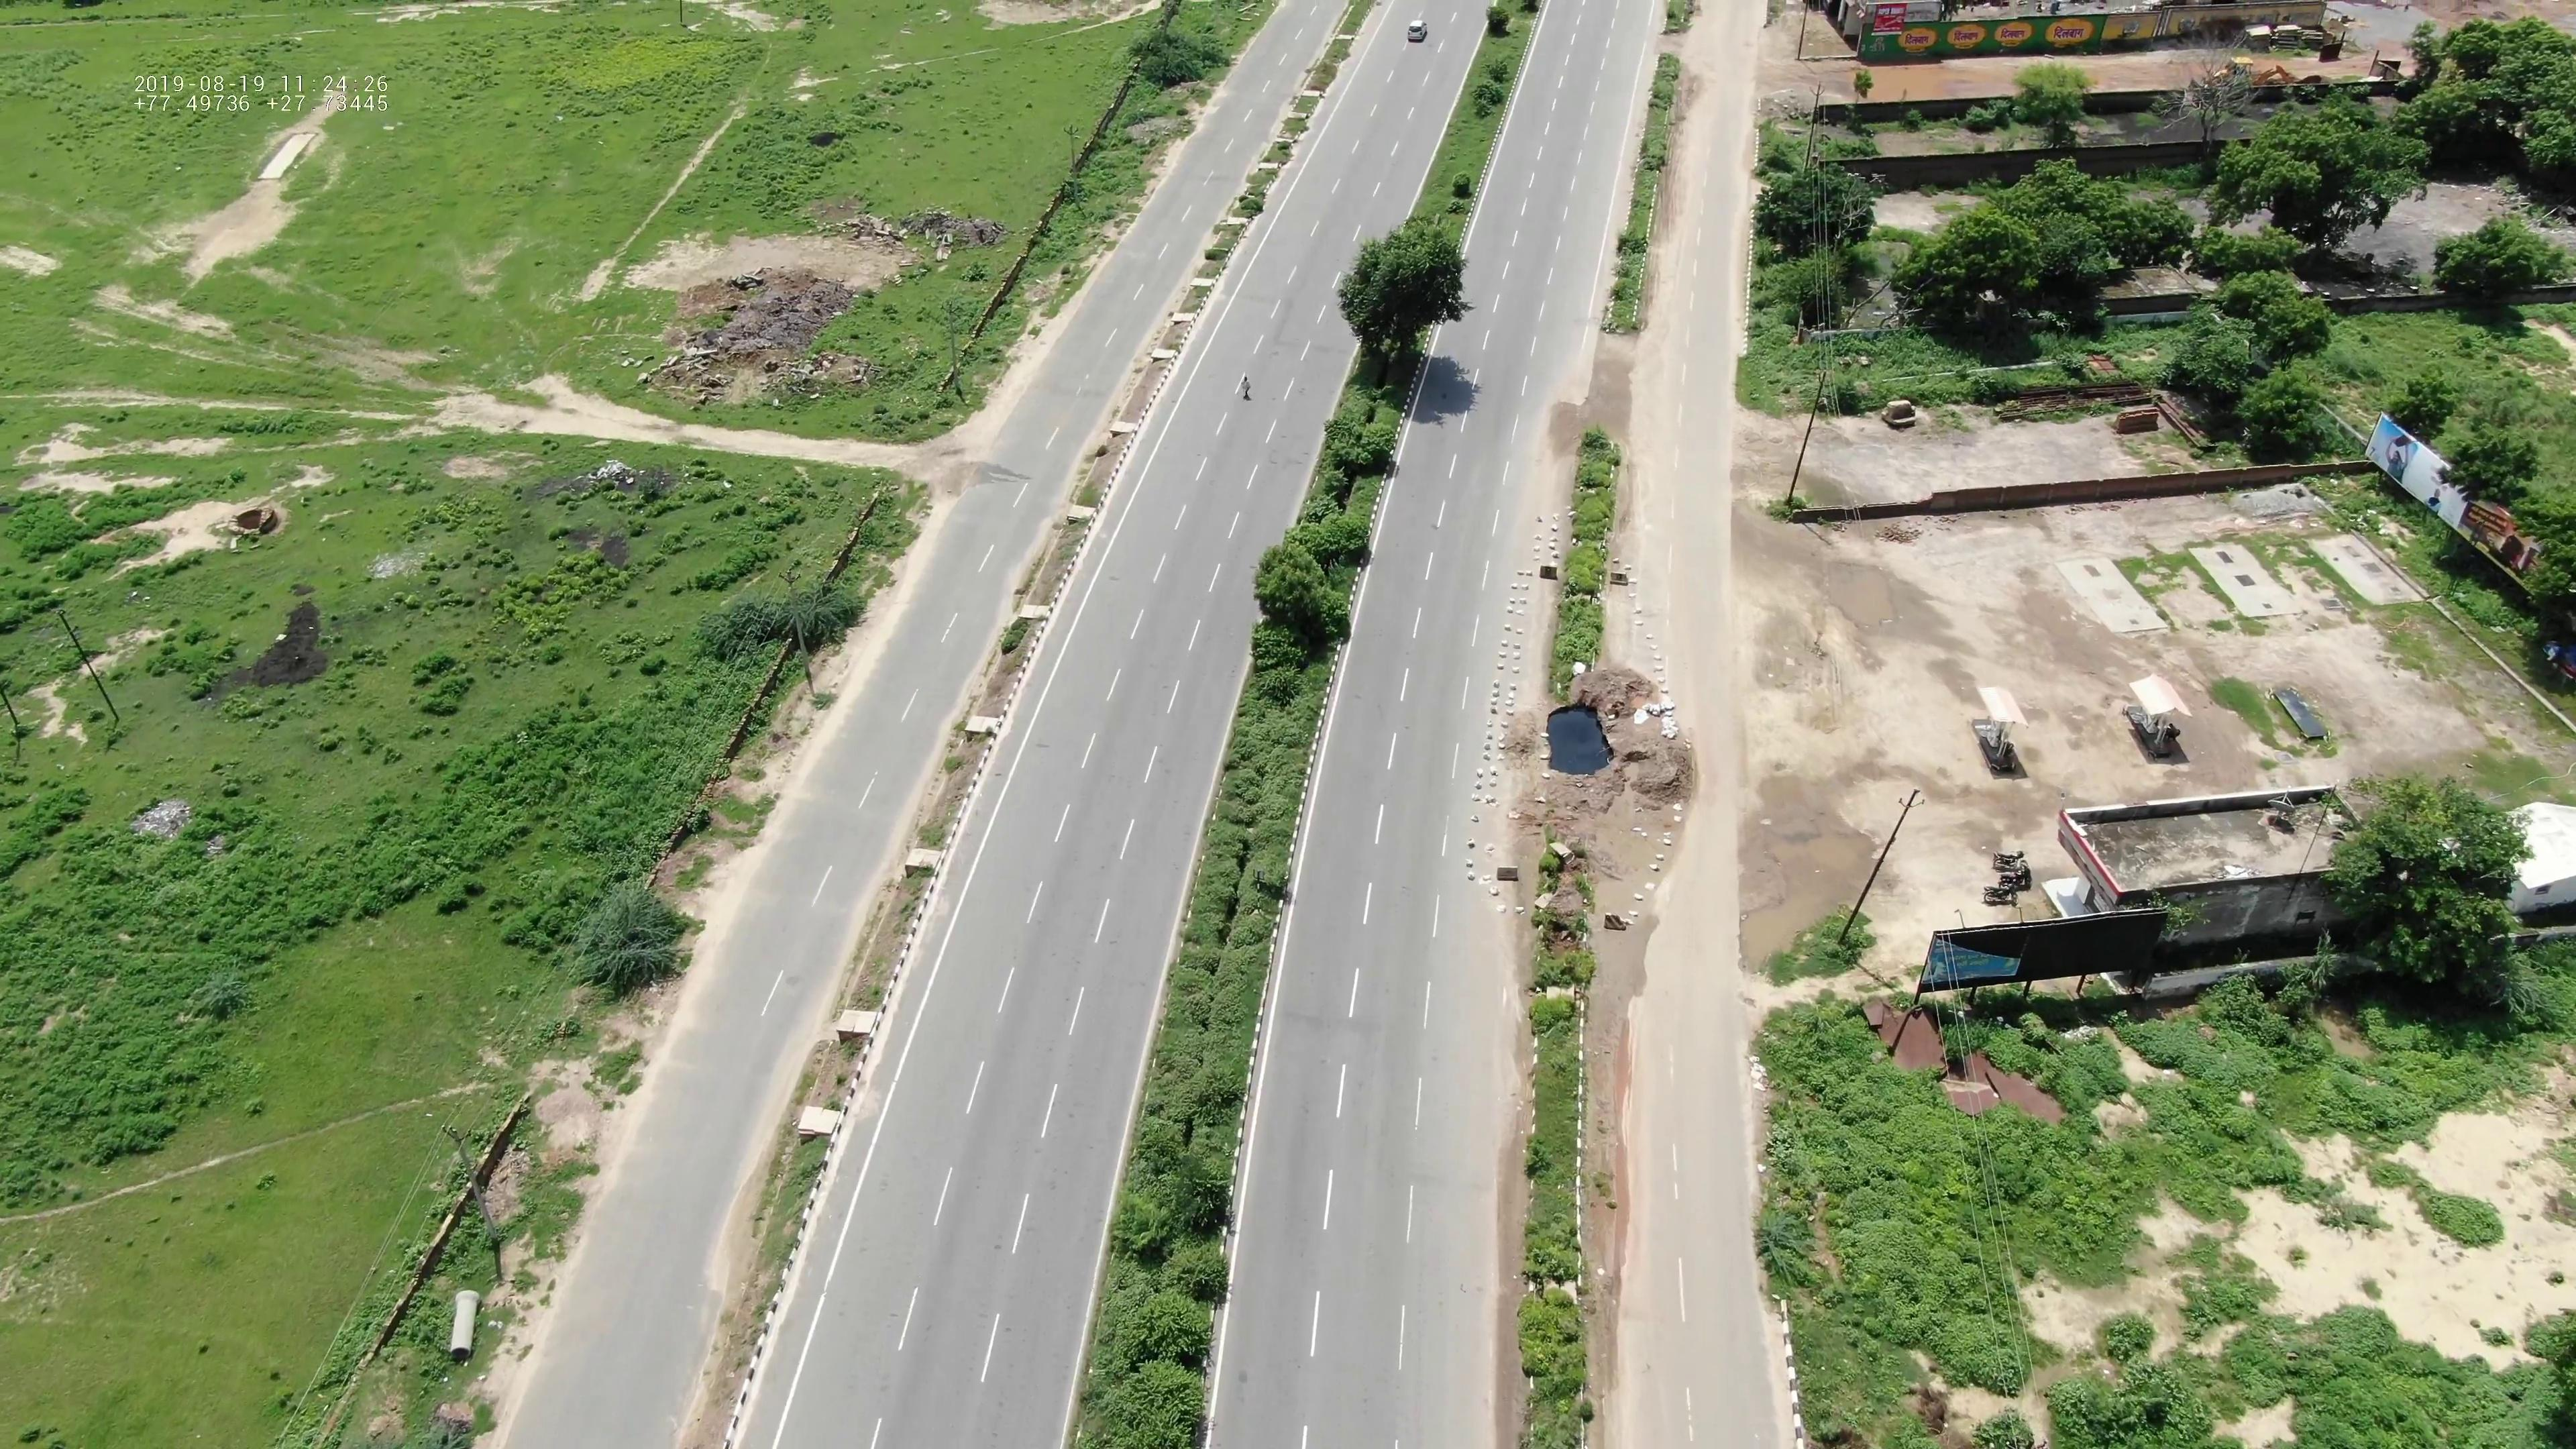Potholes: (1529, 692, 1647, 801)
